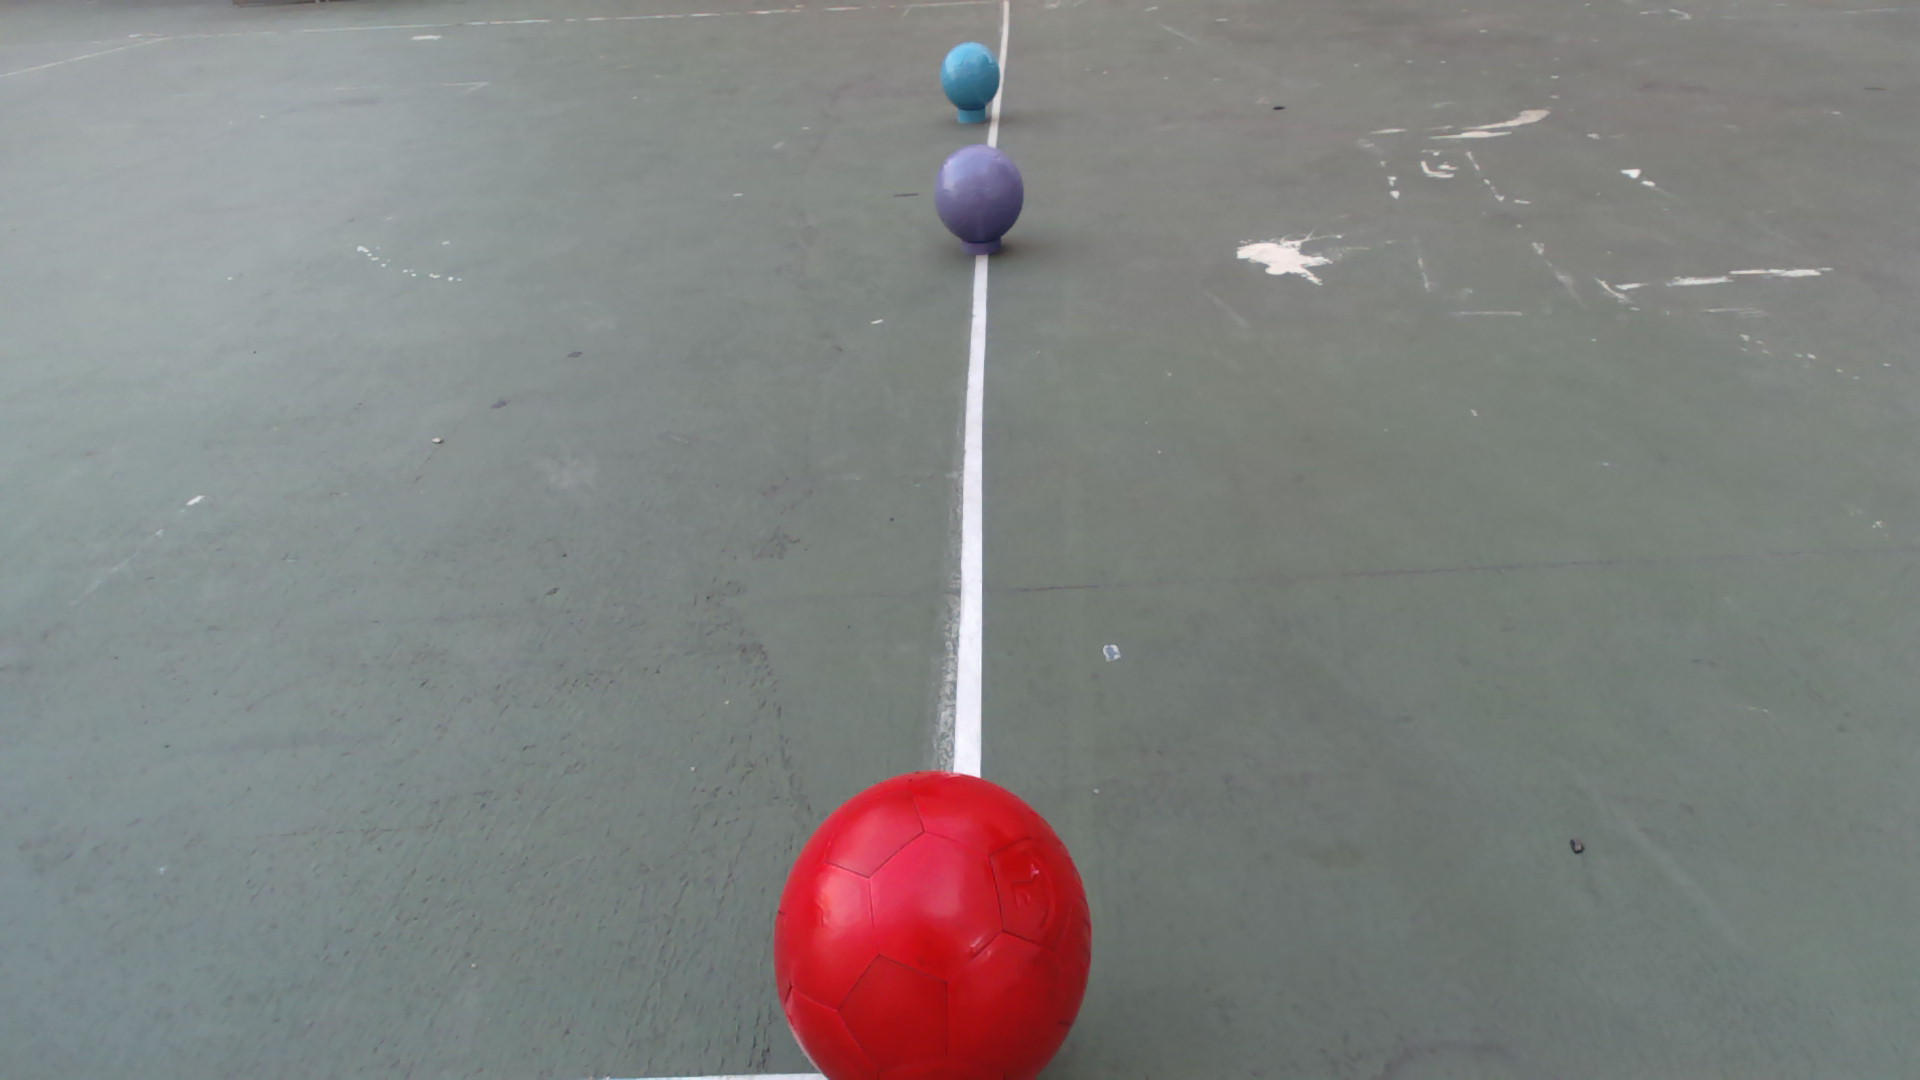Blue ball: (938, 40, 1001, 111)
Purple ball: (932, 144, 1025, 243)
Red ball: (769, 767, 1095, 1080)
